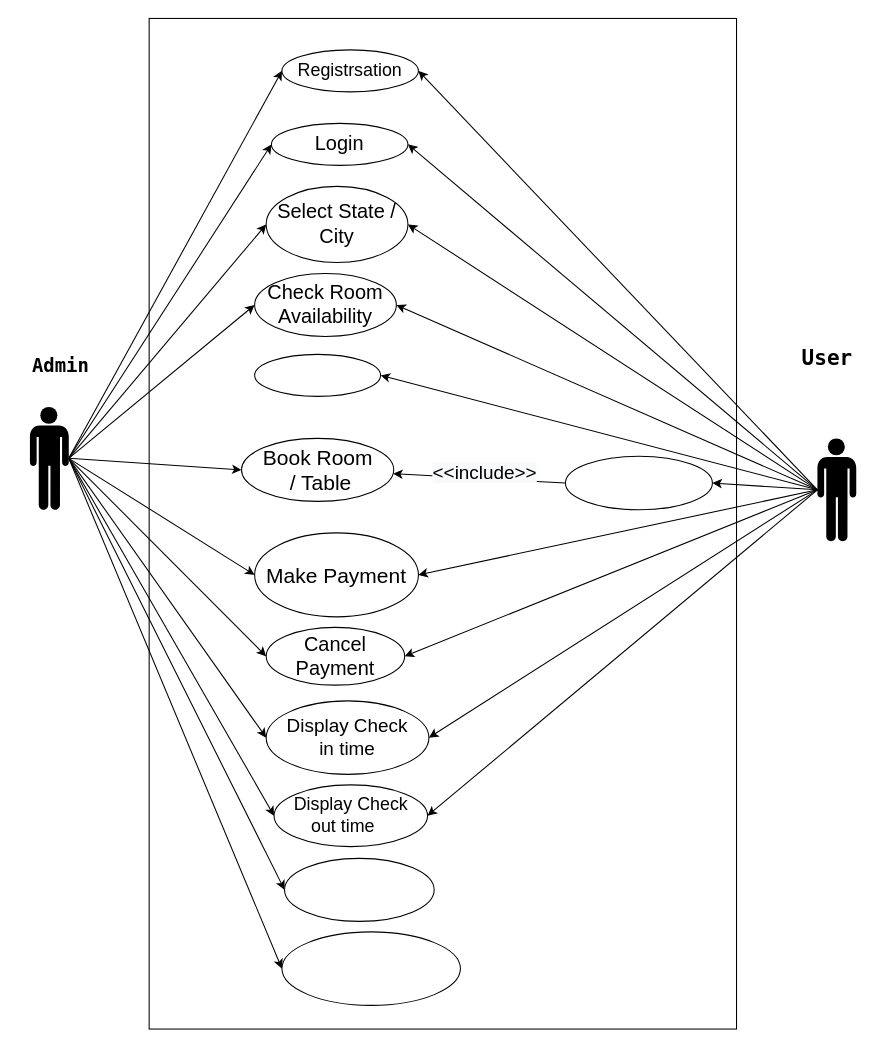
Some shapes in this 881 by 1048 pixel diagram are drawn without their labels. The shapes that lost their labels are listed below. From the top down, each one's box as (x1, y1, x2, y2) in pixels, then its label:
(254, 353, 381, 396): Pre Booking
(564, 455, 712, 510): Cancel Reservation
(284, 857, 434, 921): Manage Offers
(281, 931, 460, 1005): Manage &Update Database
